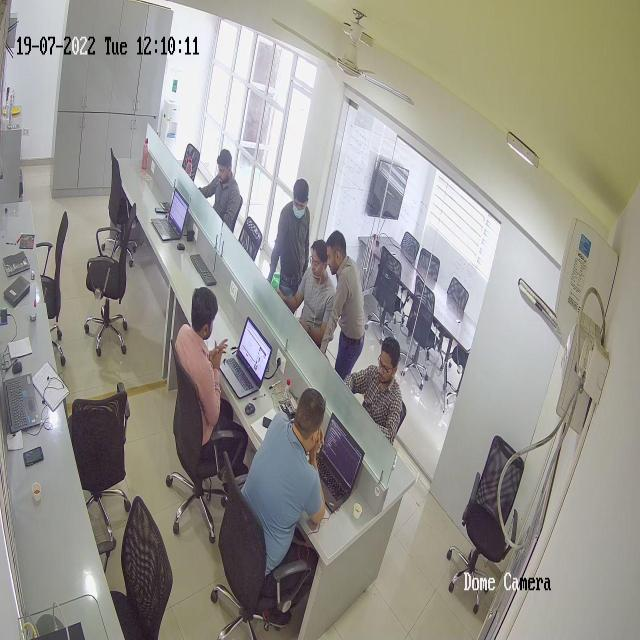chair: (209, 470, 302, 637), (443, 429, 527, 611), (165, 353, 241, 550), (93, 496, 176, 640), (65, 384, 139, 537), (80, 208, 132, 362), (38, 209, 74, 356), (403, 269, 441, 391), (106, 150, 141, 268), (367, 238, 403, 350), (414, 242, 445, 305), (238, 212, 265, 267), (446, 272, 471, 325), (178, 138, 200, 186), (400, 223, 420, 260)
keyboard: (188, 247, 218, 295)
laptop: (303, 402, 366, 528), (214, 314, 271, 406), (0, 334, 44, 438), (152, 190, 191, 250)
person: (240, 386, 327, 608), (175, 280, 249, 475), (304, 225, 369, 373), (294, 228, 361, 366), (348, 330, 408, 442), (290, 230, 343, 354), (270, 175, 316, 309), (200, 146, 243, 231)
phone: (19, 445, 46, 468), (257, 409, 278, 432), (152, 195, 172, 219)
